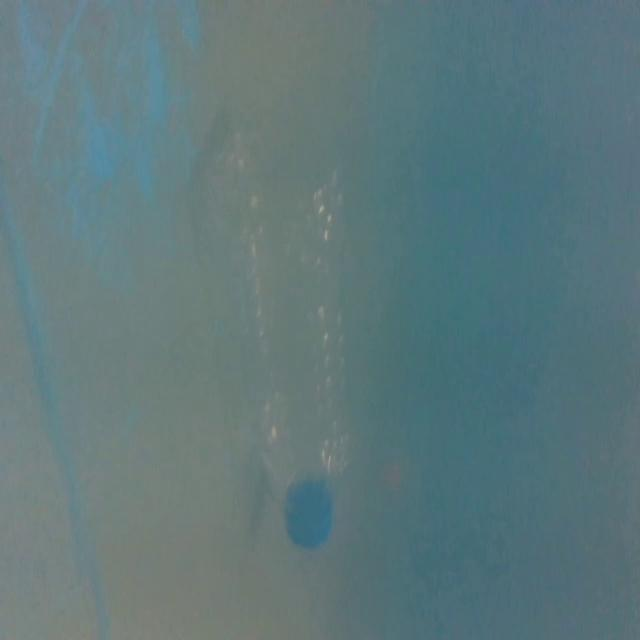plastic bottle: (219, 139, 361, 559)
